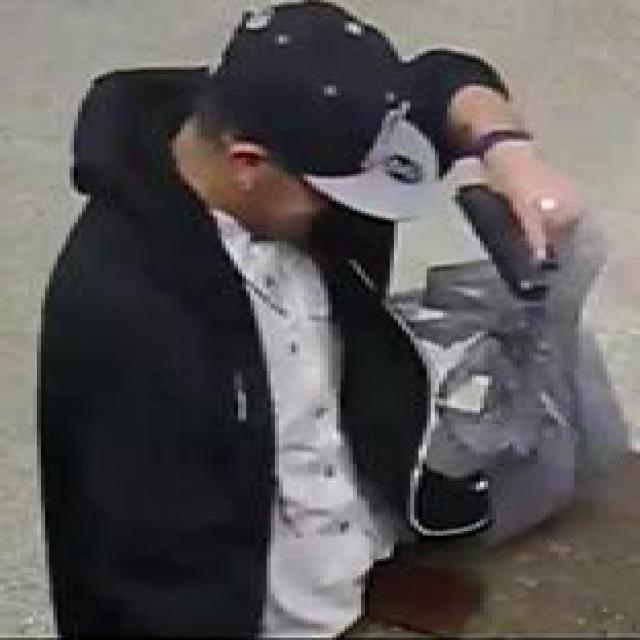Gun: (459, 176, 591, 295)
